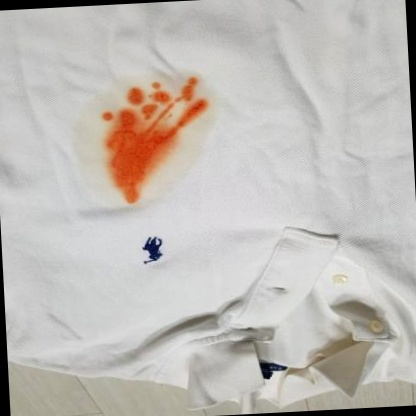kimchi: (73, 76, 215, 209), (106, 133, 177, 168), (110, 166, 154, 206), (175, 98, 218, 127), (178, 76, 204, 100), (138, 102, 161, 126), (114, 105, 136, 129), (124, 85, 145, 109), (149, 91, 171, 108), (100, 110, 110, 125), (147, 80, 160, 91)
